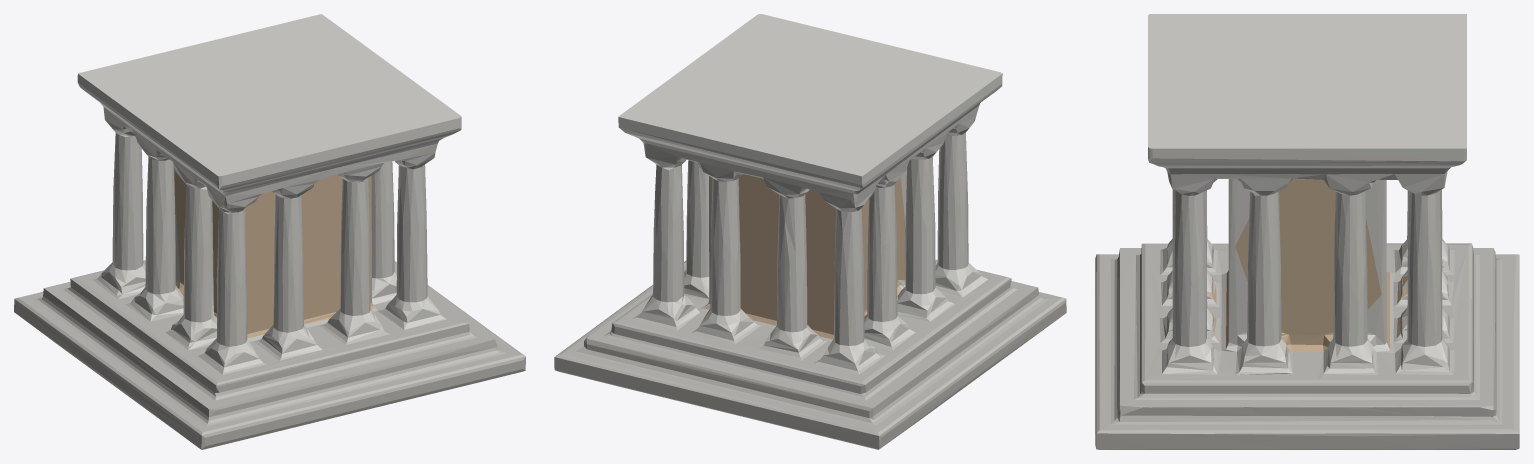
The model's file is etape-2.glb.
3 views of the same model, side by side, from view 1: azimuth 30°, elevation 25°; view 2: azimuth 150°, elevation 25°; view 3: azimuth 270°, elevation 25° (orthographic). The views are drawn at different scales.
Parts seen in each view (by area): view 1: geometry_0; view 2: geometry_0; view 3: geometry_0.
Boxes of the visible parts, <box> form: geometry_0: <box>14,14,525,449</box>; geometry_0: <box>554,14,1066,449</box>; geometry_0: <box>1095,14,1519,449</box>.
Bounding box in the file's own units: 0.9042 × 0.6594 × 0.9043.
